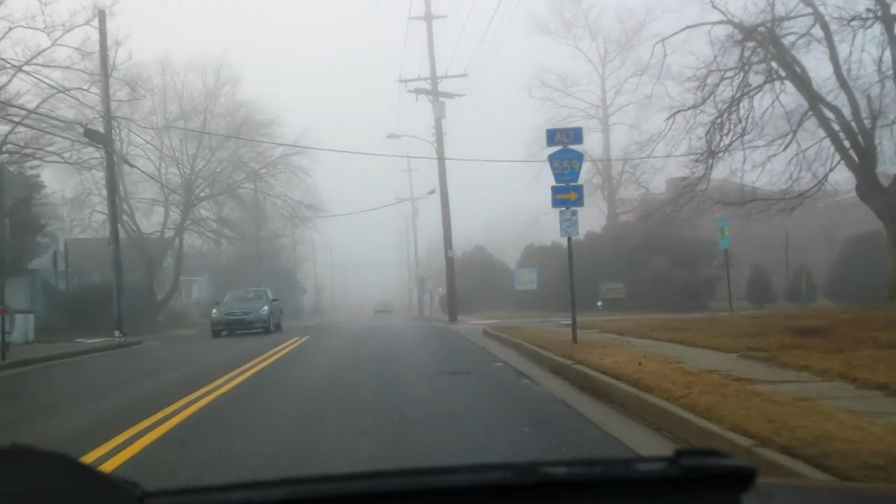car: (206, 287, 284, 338), (371, 296, 398, 315)
